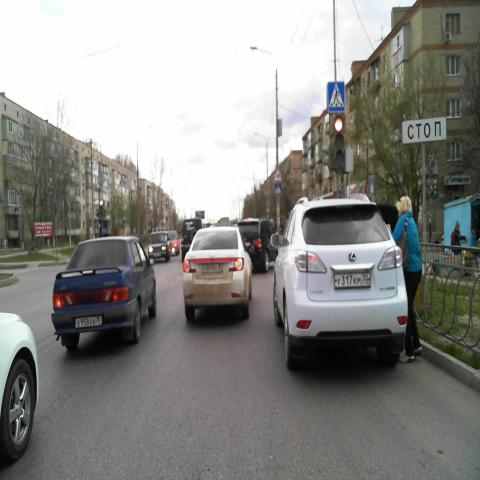1_23: (274, 169, 282, 182)
5_19_1: (326, 80, 344, 112)
6_16: (402, 118, 446, 142)
